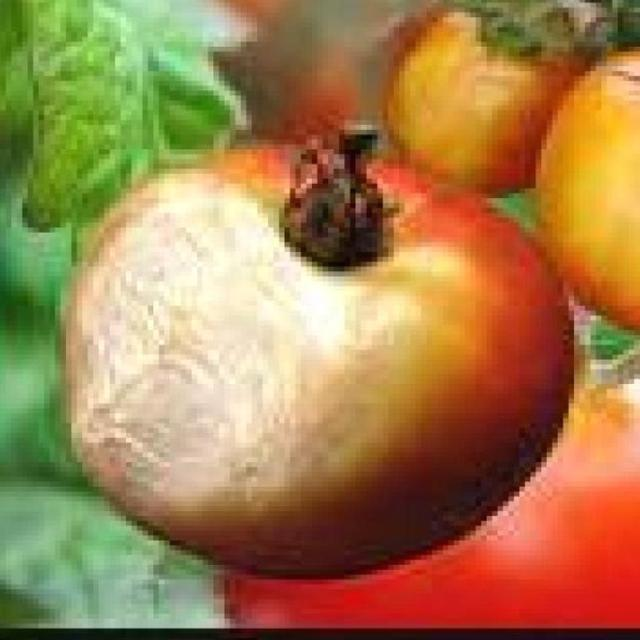Sunscald Fruit: (22, 116, 302, 357)
